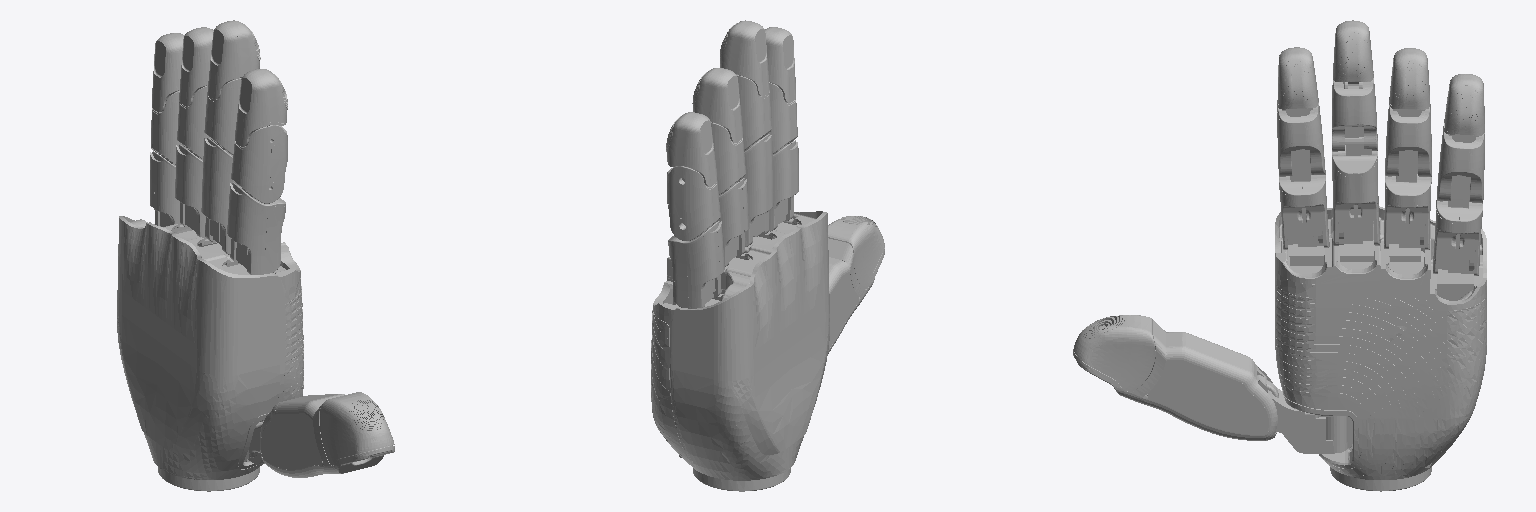
robot.urdf — CASIAHAND-M:
<?xml version="1.0" encoding="utf-8"?>
<!-- This URDF was automatically created by SolidWorks to URDF Exporter! Originally created by Stephen Brawner (brawner@gmail.com) 
     Commit Version: 1.6.0-4-g7f85cfe  Build Version: 1.6.7995.38578
     For more information, please see http://wiki.ros.org/sw_urdf_exporter -->
<robot
  name="CASIAHAND-M">
  <link
    name="base_link">
    <inertial>
      <origin
        xyz="0.00164451575302165 -0.000734449147582975 0.0527981317640287"
        rpy="0 0 0" />
      <mass
        value="0.274097437160325" />
      <inertia
        ixx="0.000248493585013908"
        ixy="7.00228415757856E-07"
        ixz="1.84016764910039E-07"
        iyy="0.000147387452936371"
        iyz="1.77909959249099E-05"
        izz="0.000129458679014438" />
    </inertial>
    <visual>
      <origin
        xyz="0 0 0"
        rpy="0 0 0" />
      <geometry>
        <mesh
          filename="meshes/base_link.STL" />
      </geometry>
      <material
        name="">
        <color
          rgba="0.752941176470588 0.752941176470588 0.752941176470588 1" />
      </material>
    </visual>
    <collision>
      <origin
        xyz="0 0 0"
        rpy="0 0 0" />
      <geometry>
        <mesh
          filename="meshes/base_link.STL" />
      </geometry>
    </collision>
  </link>
  <link
    name="Empty_Link1-1">
    <inertial>
      <origin
        xyz="-0.000679874481411311 -0.0105069886903272 0.0112253116499081"
        rpy="0 0 0" />
      <mass
        value="0.00662830922359061" />
      <inertia
        ixx="3.69679305670947E-07"
        ixy="-1.20819402080067E-08"
        ixz="3.0567532310443E-09"
        iyy="1.9191717532638E-07"
        iyz="3.38488131558605E-08"
        izz="3.52242096763109E-07" />
    </inertial>
    <visual>
      <origin
        xyz="0 0 0"
        rpy="0 0 0" />
      <geometry>
        <mesh
          filename="meshes/Empty_Link1-1.STL" />
      </geometry>
      <material
        name="">
        <color
          rgba="0.752941176470588 0.752941176470588 0.752941176470588 1" />
      </material>
    </visual>
    <collision>
      <origin
        xyz="0 0 0"
        rpy="0 0 0" />
      <geometry>
        <mesh
          filename="meshes/Empty_Link1-1.STL" />
      </geometry>
    </collision>
  </link>
  <joint
    name="thumb1"
    type="revolute">
    <origin
      xyz="0.0083614 -0.018144 0.013699"
      rpy="0 0 0" />
    <parent
      link="base_link" />
    <child
      link="Empty_Link1-1" />
    <axis
      xyz="0 0 1" />
    <limit
      lower="0"
      upper="1.57"
      effort="0"
      velocity="0" />
  </joint>
  <link
    name="Empty_Link1-2">
    <inertial>
      <origin
        xyz="0.00497815039889659 -0.0250191973427338 0.00734179672386692"
        rpy="0 0 0" />
      <mass
        value="0.0317327548443066" />
      <inertia
        ixx="1.11134800767335E-05"
        ixy="-1.39415310181854E-08"
        ixz="-3.51996087107295E-08"
        iyy="4.24330856024896E-06"
        iyz="3.14364339451875E-06"
        izz="9.16331523640202E-06" />
    </inertial>
    <visual>
      <origin
        xyz="0 0 0"
        rpy="0 0 0" />
      <geometry>
        <mesh
          filename="meshes/Empty_Link1-2.STL" />
      </geometry>
      <material
        name="">
        <color
          rgba="0.752941176470588 0.752941176470588 0.752941176470588 1" />
      </material>
    </visual>
    <collision>
      <origin
        xyz="0 0 0"
        rpy="0 0 0" />
      <geometry>
        <mesh
          filename="meshes/Empty_Link1-2.STL" />
      </geometry>
    </collision>
  </link>
  <joint
    name="thumb2"
    type="revolute">
    <origin
      xyz="-0.0055 -0.029112 0.020996"
      rpy="0 0 0" />
    <parent
      link="Empty_Link1-1" />
    <child
      link="Empty_Link1-2" />
    <axis
      xyz="1 0 0" />
    <limit
      lower="-1.204"
      upper="0"
      effort="0"
      velocity="0" />
  </joint>
  <link
    name="Empty_Link2-1">
    <inertial>
      <origin
        xyz="-0.00119054522331894 -0.00484453355650832 0.0116663381559276"
        rpy="0 0 0" />
      <mass
        value="0.0100825140915391" />
      <inertia
        ixx="8.15537100412182E-07"
        ixy="-2.95185287307733E-09"
        ixz="1.44982489151734E-08"
        iyy="8.50894015152069E-07"
        iyz="2.29100719817063E-08"
        izz="2.751626034981E-07" />
    </inertial>
    <visual>
      <origin
        xyz="0 0 0"
        rpy="0 0 0" />
      <geometry>
        <mesh
          filename="meshes/Empty_Link2-1.STL" />
      </geometry>
      <material
        name="">
        <color
          rgba="0.752941176470588 0.752941176470588 0.752941176470588 1" />
      </material>
    </visual>
    <collision>
      <origin
        xyz="0 0 0"
        rpy="0 0 0" />
      <geometry>
        <mesh
          filename="meshes/Empty_Link2-1.STL" />
      </geometry>
    </collision>
  </link>
  <joint
    name="index1"
    type="revolute">
    <origin
      xyz="0.0042728 -0.024135 0.10396"
      rpy="0.052045 0 0" />
    <parent
      link="base_link" />
    <child
      link="Empty_Link2-1" />
    <axis
      xyz="0 1 0" />
    <limit
      lower="0"
      upper="1.57"
      effort="0"
      velocity="0" />
  </joint>
  <link
    name="Empty_Link2-2">
    <inertial>
      <origin
        xyz="-4.93323979241544E-05 0.00444870984416025 0.0101448898472118"
        rpy="0 0 0" />
      <mass
        value="0.00639188939844659" />
      <inertia
        ixx="5.44609757728696E-07"
        ixy="-6.82840758881288E-10"
        ixz="-1.33607493142449E-08"
        iyy="5.09411996426482E-07"
        iyz="-1.32856028865584E-09"
        izz="2.61583468282929E-07" />
    </inertial>
    <visual>
      <origin
        xyz="0 0 0"
        rpy="0 0 0" />
      <geometry>
        <mesh
          filename="meshes/Empty_Link2-2.STL" />
      </geometry>
      <material
        name="">
        <color
          rgba="0.752941176470588 0.752941176470588 0.752941176470588 1" />
      </material>
    </visual>
    <collision>
      <origin
        xyz="0 0 0"
        rpy="0 0 0" />
      <geometry>
        <mesh
          filename="meshes/Empty_Link2-2.STL" />
      </geometry>
    </collision>
  </link>
  <joint
    name="index2"
    type="revolute">
    <origin
      xyz="0 -0.0094 0.03"
      rpy="0 0 0" />
    <parent
      link="Empty_Link2-1" />
    <child
      link="Empty_Link2-2" />
    <axis
      xyz="0 1 0" />
    <limit
      lower="0"
      upper="1.57"
      effort="0"
      velocity="0" />
  </joint>
  <link
    name="Empty_Link2-3">
    <inertial>
      <origin
        xyz="-0.00084805515543586 0.00351748598931599 0.0125727966981701"
        rpy="0 0 0" />
      <mass
        value="0.0041298974386508" />
      <inertia
        ixx="1.77070795516936E-07"
        ixy="-1.4570514274562E-12"
        ixz="-2.19532452307079E-09"
        iyy="2.03044151010076E-07"
        iyz="-6.06973705033866E-11"
        izz="1.15107651688296E-07" />
    </inertial>
    <visual>
      <origin
        xyz="0 0 0"
        rpy="0 0 0" />
      <geometry>
        <mesh
          filename="meshes/Empty_Link2-3.STL" />
      </geometry>
      <material
        name="">
        <color
          rgba="0.752941176470588 0.752941176470588 0.752941176470588 1" />
      </material>
    </visual>
    <collision>
      <origin
        xyz="0 0 0"
        rpy="0 0 0" />
      <geometry>
        <mesh
          filename="meshes/Empty_Link2-3.STL" />
      </geometry>
    </collision>
  </link>
  <joint
    name="index3"
    type="revolute">
    <origin
      xyz="0.00017147 0.0010463 0.019999"
      rpy="0 0 0" />
    <parent
      link="Empty_Link2-2" />
    <child
      link="Empty_Link2-3" />
    <axis
      xyz="0 -1 0" />
    <limit
      lower="-0.523"
      upper="0"
      effort="0"
      velocity="0" />
  </joint>
  <link
    name="Empty_Link3-1">
    <inertial>
      <origin
        xyz="-0.000793391517288974 0.00510252185733782 0.0166417479302781"
        rpy="0 0 0" />
      <mass
        value="0.0146233757016484" />
      <inertia
        ixx="1.81585582638692E-06"
        ixy="7.90690263926885E-10"
        ixz="1.05920071765767E-08"
        iyy="1.8938295989291E-06"
        iyz="-3.73588230679576E-08"
        izz="4.17600095897392E-07" />
    </inertial>
    <visual>
      <origin
        xyz="0 0 0"
        rpy="0 0 0" />
      <geometry>
        <mesh
          filename="meshes/Empty_Link3-1.STL" />
      </geometry>
      <material
        name="">
        <color
          rgba="0.752941176470588 0.752941176470588 0.752941176470588 1" />
      </material>
    </visual>
    <collision>
      <origin
        xyz="0 0 0"
        rpy="0 0 0" />
      <geometry>
        <mesh
          filename="meshes/Empty_Link3-1.STL" />
      </geometry>
    </collision>
  </link>
  <joint
    name="middle1"
    type="revolute">
    <origin
      xyz="0.0042728 -0.014418 0.10493"
      rpy="0.017453 0 0" />
    <parent
      link="base_link" />
    <child
      link="Empty_Link3-1" />
    <axis
      xyz="0 1 0" />
    <limit
      lower="0"
      upper="1.57"
      effort="0"
      velocity="0" />
  </joint>
  <link
    name="Empty_Link3-2">
    <inertial>
      <origin
        xyz="-7.59460842865412E-07 -0.00644045993280959 0.0125571137614096"
        rpy="0 0 0" />
      <mass
        value="0.00798996876926034" />
      <inertia
        ixx="5.42498750374713E-07"
        ixy="-1.45145758602452E-11"
        ixz="-4.6296679127425E-08"
        iyy="5.23141232915967E-07"
        iyz="3.39693802728385E-10"
        izz="3.03000062824471E-07" />
    </inertial>
    <visual>
      <origin
        xyz="0 0 0"
        rpy="0 0 0" />
      <geometry>
        <mesh
          filename="meshes/Empty_Link3-2.STL" />
      </geometry>
      <material
        name="">
        <color
          rgba="0.752941176470588 0.752941176470588 0.752941176470588 1" />
      </material>
    </visual>
    <collision>
      <origin
        xyz="0 0 0"
        rpy="0 0 0" />
      <geometry>
        <mesh
          filename="meshes/Empty_Link3-2.STL" />
      </geometry>
    </collision>
  </link>
  <joint
    name="middle2"
    type="revolute">
    <origin
      xyz="0 0.0114 0.037"
      rpy="0 0 0" />
    <parent
      link="Empty_Link3-1" />
    <child
      link="Empty_Link3-2" />
    <axis
      xyz="0 1 0" />
    <limit
      lower="0"
      upper="1.57"
      effort="0"
      velocity="0" />
  </joint>
  <link
    name="Empty_Link3-3">
    <inertial>
      <origin
        xyz="-0.000638063646190289 -0.00560176851121173 0.0122406072781622"
        rpy="0 0 0" />
      <mass
        value="0.00426457038141695" />
      <inertia
        ixx="1.89629725713036E-07"
        ixy="6.51230274507793E-12"
        ixz="-6.70421126583838E-09"
        iyy="2.17543219664299E-07"
        iyz="-2.74576993388861E-11"
        izz="1.18852722281619E-07" />
    </inertial>
    <visual>
      <origin
        xyz="0 0 0"
        rpy="0 0 0" />
      <geometry>
        <mesh
          filename="meshes/Empty_Link3-3.STL" />
      </geometry>
      <material
        name="">
        <color
          rgba="0.752941176470588 0.752941176470588 0.752941176470588 1" />
      </material>
    </visual>
    <collision>
      <origin
        xyz="0 0 0"
        rpy="0 0 0" />
      <geometry>
        <mesh
          filename="meshes/Empty_Link3-3.STL" />
      </geometry>
    </collision>
  </link>
  <joint
    name="middle3"
    type="revolute">
    <origin
      xyz="0 -0.0009 0.023"
      rpy="0 0 0" />
    <parent
      link="Empty_Link3-2" />
    <child
      link="Empty_Link3-3" />
    <axis
      xyz="0 -1 0" />
    <limit
      lower="-0.523"
      upper="0"
      effort="0"
      velocity="0" />
  </joint>
  <link
    name="Empty_Link4-1">
    <inertial>
      <origin
        xyz="-0.0011905453473488 -0.00484453444715233 0.0116663359705611"
        rpy="0 0 0" />
      <mass
        value="0.010082513631395" />
      <inertia
        ixx="8.15537033403925E-07"
        ixy="-2.9519039450205E-09"
        ixz="1.44980922438563E-08"
        iyy="8.50893814404178E-07"
        iyz="2.29100803410995E-08"
        izz="2.75162619594213E-07" />
    </inertial>
    <visual>
      <origin
        xyz="0 0 0"
        rpy="0 0 0" />
      <geometry>
        <mesh
          filename="meshes/Empty_Link4-1.STL" />
      </geometry>
      <material
        name="">
        <color
          rgba="0.752941176470588 0.752941176470588 0.752941176470588 1" />
      </material>
    </visual>
    <collision>
      <origin
        xyz="0 0 0"
        rpy="0 0 0" />
      <geometry>
        <mesh
          filename="meshes/Empty_Link4-1.STL" />
      </geometry>
    </collision>
  </link>
  <joint
    name="ring1"
    type="revolute">
    <origin
      xyz="0.0042728 0.014875 0.10332"
      rpy="-0.017769 0 0" />
    <parent
      link="base_link" />
    <child
      link="Empty_Link4-1" />
    <axis
      xyz="0 1 0" />
    <limit
      lower="0"
      upper="1.57"
      effort="0"
      velocity="0" />
  </joint>
  <link
    name="Empty_Link4-2">
    <inertial>
      <origin
        xyz="-4.93236745716316E-05 0.00443755557092002 0.0101449004875683"
        rpy="0 0 0" />
      <mass
        value="0.00639187770261957" />
      <inertia
        ixx="5.44609480821189E-07"
        ixy="-6.83823659780404E-10"
        ixz="-1.33602750694632E-08"
        iyy="5.09411126668794E-07"
        iyz="-1.32937280635375E-09"
        izz="2.61582675482011E-07" />
    </inertial>
    <visual>
      <origin
        xyz="0 0 0"
        rpy="0 0 0" />
      <geometry>
        <mesh
          filename="meshes/Empty_Link4-2.STL" />
      </geometry>
      <material
        name="">
        <color
          rgba="0.752941176470588 0.752941176470588 0.752941176470588 1" />
      </material>
    </visual>
    <collision>
      <origin
        xyz="0 0 0"
        rpy="0 0 0" />
      <geometry>
        <mesh
          filename="meshes/Empty_Link4-2.STL" />
      </geometry>
    </collision>
  </link>
  <joint
    name="ring2"
    type="revolute">
    <origin
      xyz="0 -0.0094 0.03"
      rpy="0 0 0" />
    <parent
      link="Empty_Link4-1" />
    <child
      link="Empty_Link4-2" />
    <axis
      xyz="0 1 0" />
    <limit
      lower="0"
      upper="1.57"
      effort="0"
      velocity="0" />
  </joint>
  <link
    name="Empty_Link4-3">
    <inertial>
      <origin
        xyz="-0.000848039957553528 0.00351748432267305 0.0125727857835776"
        rpy="0 0 0" />
      <mass
        value="0.0041299157281713" />
      <inertia
        ixx="1.77071358461543E-07"
        ixy="-1.45574247248332E-12"
        ixz="-2.19499214037857E-09"
        iyy="2.03045026713045E-07"
        iyz="-6.11610138384088E-11"
        izz="1.15108485588062E-07" />
    </inertial>
    <visual>
      <origin
        xyz="0 0 0"
        rpy="0 0 0" />
      <geometry>
        <mesh
          filename="meshes/Empty_Link4-3.STL" />
      </geometry>
      <material
        name="">
        <color
          rgba="0.752941176470588 0.752941176470588 0.752941176470588 1" />
      </material>
    </visual>
    <collision>
      <origin
        xyz="0 0 0"
        rpy="0 0 0" />
      <geometry>
        <mesh
          filename="meshes/Empty_Link4-3.STL" />
      </geometry>
    </collision>
  </link>
  <joint
    name="ring3"
    type="revolute">
    <origin
      xyz="0.00017147 0.0010154 0.019999"
      rpy="0 0 0" />
    <parent
      link="Empty_Link4-2" />
    <child
      link="Empty_Link4-3" />
    <axis
      xyz="0 -1 0" />
    <limit
      lower="-0.523"
      upper="0"
      effort="0"
      velocity="0" />
  </joint>
  <link
    name="Empty_Link5-1">
    <inertial>
      <origin
        xyz="-0.00119054560001579 -0.00484453352706459 0.0116663382910342"
        rpy="0 0 0" />
      <mass
        value="0.0100825141829499" />
      <inertia
        ixx="8.15537101518626E-07"
        ixy="-2.95184447335411E-09"
        ixz="1.44982439735622E-08"
        iyy="8.50894019261113E-07"
        iyz="2.29100485241715E-08"
        izz="2.75162612457405E-07" />
    </inertial>
    <visual>
      <origin
        xyz="0 0 0"
        rpy="0 0 0" />
      <geometry>
        <mesh
          filename="meshes/Empty_Link5-1.STL" />
      </geometry>
      <material
        name="">
        <color
          rgba="0.752941176470588 0.752941176470588 0.752941176470588 1" />
      </material>
    </visual>
    <collision>
      <origin
        xyz="0 0 0"
        rpy="0 0 0" />
      <geometry>
        <mesh
          filename="meshes/Empty_Link5-1.STL" />
      </geometry>
    </collision>
  </link>
  <joint
    name="little1"
    type="revolute">
    <origin
      xyz="0.0042728 0.033878 0.092334"
      rpy="-0.052675 0 0" />
    <parent
      link="base_link" />
    <child
      link="Empty_Link5-1" />
    <axis
      xyz="0 1 0" />
    <limit
      lower="0"
      upper="1.57"
      effort="0"
      velocity="0" />
  </joint>
  <link
    name="Empty_Link5-2">
    <inertial>
      <origin
        xyz="-0.000136303895101488 -0.00361418517876005 0.0101441095278357"
        rpy="0 0 0" />
      <mass
        value="0.00639187488430775" />
      <inertia
        ixx="5.44817636318265E-07"
        ixy="-6.72340044538796E-10"
        ixz="-1.0931581145038E-08"
        iyy="5.09410933343947E-07"
        iyz="-1.33538771895222E-09"
        izz="2.61374303559352E-07" />
    </inertial>
    <visual>
      <origin
        xyz="0 0 0"
        rpy="0 0 0" />
      <geometry>
        <mesh
          filename="meshes/Empty_Link5-2.STL" />
      </geometry>
      <material
        name="">
        <color
          rgba="0.752941176470588 0.752941176470588 0.752941176470588 1" />
      </material>
    </visual>
    <collision>
      <origin
        xyz="0 0 0"
        rpy="0 0 0" />
      <geometry>
        <mesh
          filename="meshes/Empty_Link5-2.STL" />
      </geometry>
    </collision>
  </link>
  <joint
    name="little2"
    type="revolute">
    <origin
      xyz="0 -0.0014 0.03"
      rpy="0 0 0" />
    <parent
      link="Empty_Link5-1" />
    <child
      link="Empty_Link5-2" />
    <axis
      xyz="0 1 0" />
    <limit
      lower="0"
      upper="1.57"
      effort="0"
      velocity="0" />
  </joint>
  <link
    name="Empty_Link5-3">
    <inertial>
      <origin
        xyz="-0.000771680257497249 -0.00348251436252543 0.0125777239433789"
        rpy="0 0 0" />
      <mass
        value="0.0041299190946511" />
      <inertia
        ixx="1.77042269555224E-07"
        ixy="-1.6386488553651E-12"
        ixz="-2.57117282164909E-09"
        iyy="2.03045134945853E-07"
        iyz="-6.09727904693777E-11"
        izz="1.15137572688244E-07" />
    </inertial>
    <visual>
      <origin
        xyz="0 0 0"
        rpy="0 0 0" />
      <geometry>
        <mesh
          filename="meshes/Empty_Link5-3.STL" />
      </geometry>
      <material
        name="">
        <color
          rgba="0.752941176470588 0.752941176470588 0.752941176470588 1" />
      </material>
    </visual>
    <collision>
      <origin
        xyz="0 0 0"
        rpy="0 0 0" />
      <geometry>
        <mesh
          filename="meshes/Empty_Link5-3.STL" />
      </geometry>
    </collision>
  </link>
  <joint
    name="little3"
    type="revolute">
    <origin
      xyz="0 0 0.02"
      rpy="0 0 0" />
    <parent
      link="Empty_Link5-2" />
    <child
      link="Empty_Link5-3" />
    <axis
      xyz="0 -1 0" />
    <limit
      lower="-0.523"
      upper="0"
      effort="0"
      velocity="0" />
  </joint>
  <link name="thumb_tip_head"/>
  <link name="index_tip_head"/>
  <link name="middle_tip_head"/>
  <link name="ring_tip_head"/>
  <link name="little_tip_head"/>

  <joint name="thumb_tip" type="fixed">
    <parent link="Empty_Link1-2"/>
    <child link="thumb_tip_head"/>
    <origin rpy="0 0 0" xyz="0.005 -0.06 0.032"/>
  </joint>
  <joint name="index_tip" type="fixed">
    <parent link="Empty_Link2-3"/>
    <child link="index_tip_head"/>
    <origin rpy="0 0 0" xyz="0.0 0.004 0.026"/>
  </joint>
  <joint name="middle_tip" type="fixed">
    <parent link="Empty_Link3-3"/>
    <child link="middle_tip_head"/>
    <origin rpy="0 0 0" xyz="0.0 -0.004 0.026"/>
  </joint>
  <joint name="ring_tip" type="fixed">
    <parent link="Empty_Link4-3"/>
    <child link="ring_tip_head"/>
    <origin rpy="0 0 0" xyz="0.0 0.004 0.026"/>
  </joint>
  <joint name="little_tip" type="fixed">
    <parent link="Empty_Link5-3"/>
    <child link="little_tip_head"/>
    <origin rpy="0 0 0" xyz="0.0 -0.002 0.026"/>
  </joint>
</robot>

--- What the picture shows (computed from the rendered views, not written in the file) ---
Views: 3 orthographic renders of the robot side by side, from view 1: azimuth 30°, elevation 25°; view 2: azimuth 150°, elevation 25°; view 3: azimuth 270°, elevation 25°.
Model CASIAHAND-M with 20 links and 19 joints (14 revolute, 5 fixed), rooted at base_link, posed all joints at 0.
Links seen in each view (by area): view 1: base_link, Empty_Link1-2, Empty_Link2-1, Empty_Link2-2, Empty_Link2-3, Empty_Link3-3, Empty_Link3-1, Empty_Link4-1, Empty_Link4-3, Empty_Link5-3, Empty_Link3-2, Empty_Link5-1 (+2 smaller); view 2: base_link, Empty_Link1-2, Empty_Link5-1, Empty_Link5-2, Empty_Link5-3, Empty_Link3-3, Empty_Link4-3, Empty_Link3-1, Empty_Link2-1, Empty_Link4-1, Empty_Link2-3, Empty_Link3-2 (+2 smaller); view 3: base_link, Empty_Link1-2, Empty_Link3-1, Empty_Link2-1, Empty_Link5-1, Empty_Link4-1, Empty_Link2-2, Empty_Link4-2, Empty_Link5-2, Empty_Link1-1, Empty_Link3-2, Empty_Link3-3 (+3 smaller).
Link boxes in pixels (x1,y1,x2,y2): base_link: (117, 216, 303, 491); Empty_Link1-2: (260, 392, 394, 477); Empty_Link2-1: (227, 182, 285, 274); Empty_Link2-2: (231, 125, 287, 203); Empty_Link2-3: (235, 69, 287, 146); Empty_Link3-3: (208, 20, 260, 99); Empty_Link3-1: (201, 137, 237, 254); Empty_Link4-1: (175, 144, 206, 238); Empty_Link4-3: (179, 27, 213, 106); Empty_Link5-3: (152, 33, 184, 112); Empty_Link3-2: (204, 77, 241, 154); Empty_Link5-1: (150, 151, 180, 226); base_link: (651, 211, 829, 491); Empty_Link1-2: (828, 216, 884, 353); Empty_Link5-1: (668, 221, 724, 308); Empty_Link5-2: (667, 166, 720, 240); Empty_Link5-3: (666, 112, 716, 186); Empty_Link3-3: (720, 20, 769, 96); Empty_Link4-3: (692, 68, 742, 142); Empty_Link3-1: (737, 134, 773, 246); Empty_Link2-1: (769, 140, 798, 231); Empty_Link4-1: (715, 178, 748, 266); Empty_Link2-3: (765, 27, 795, 102); Empty_Link3-2: (736, 74, 771, 150); base_link: (1275, 206, 1486, 491); Empty_Link1-2: (1073, 315, 1278, 440); Empty_Link3-1: (1332, 137, 1380, 245); Empty_Link2-1: (1279, 173, 1329, 249); Empty_Link5-1: (1433, 199, 1482, 275); Empty_Link4-1: (1384, 174, 1431, 249); Empty_Link2-2: (1277, 98, 1325, 176); Empty_Link4-2: (1385, 97, 1431, 176); Empty_Link5-2: (1437, 126, 1484, 203); Empty_Link1-1: (1266, 387, 1347, 453); Empty_Link3-2: (1332, 71, 1377, 151); Empty_Link3-3: (1333, 20, 1373, 88).
Size in the robot's own frame: 0.0491 by 0.1587 by 0.1907 metres.
15 mesh visuals loaded from 15 distinct referenced files (15 binary STL).
